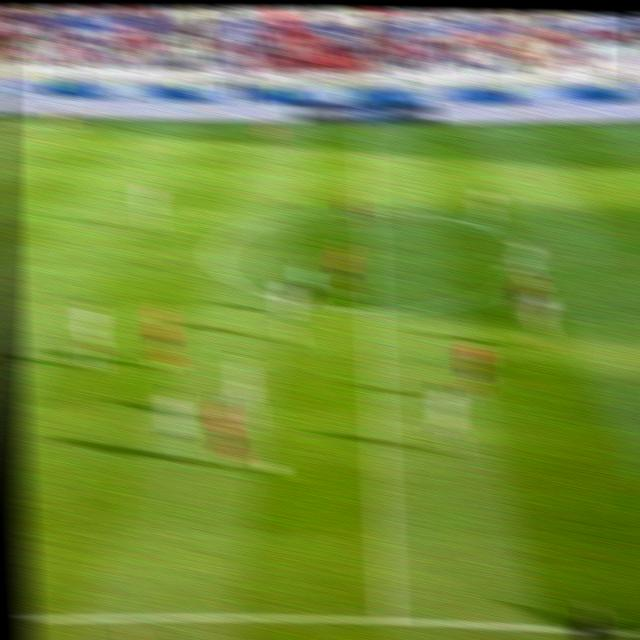halfcircle_bottom: (354, 300, 387, 323)
halfcircle_top: (355, 201, 382, 223)
midline_bottom_intersection: (359, 596, 414, 640)
midline_top_intersection: (347, 125, 383, 144)
